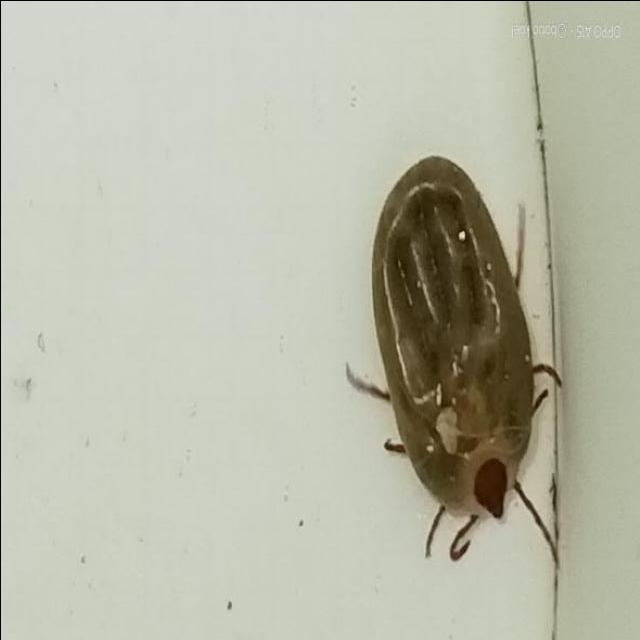Rhipicephalus Sanguineus-F-Fed: (345, 152, 560, 564)
